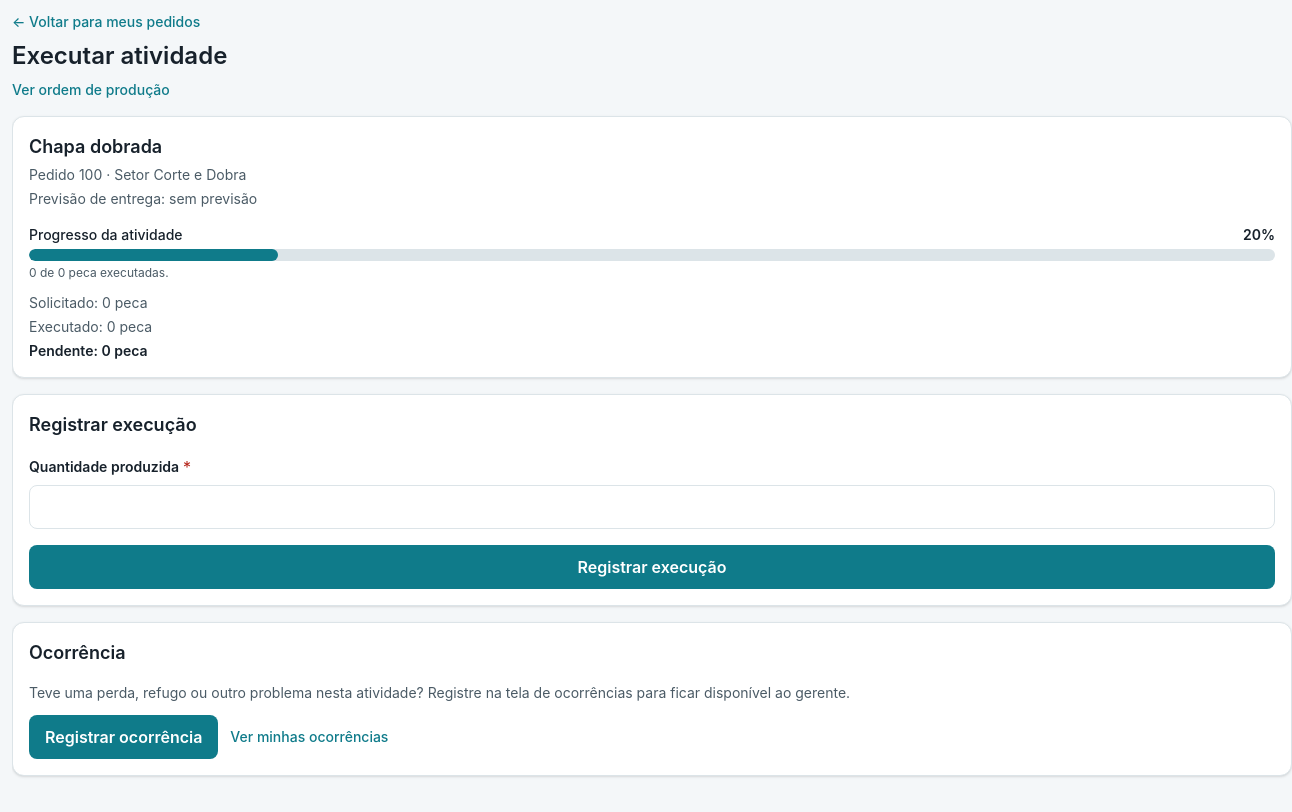
ExecutarAtividadePage › quantidade inválida mostra mensagem e não registra (FE-10)
This screenshot has width=1292, height=812.
Type "0" into the number field labelled "Quantidade produzida" at (652, 507), box left=29, top=485, right=1275, bottom=529
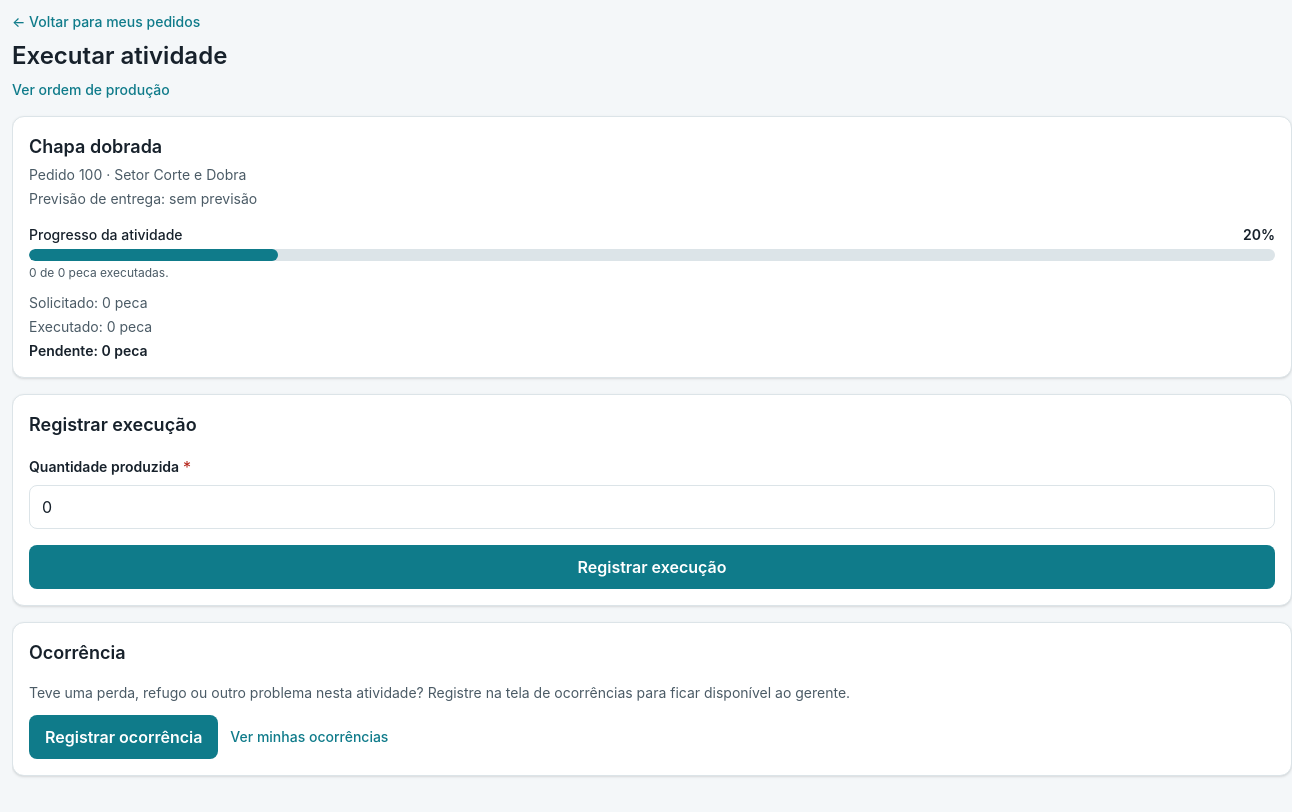
Click the button "Registrar execução" at (652, 567), box left=29, top=545, right=1275, bottom=589
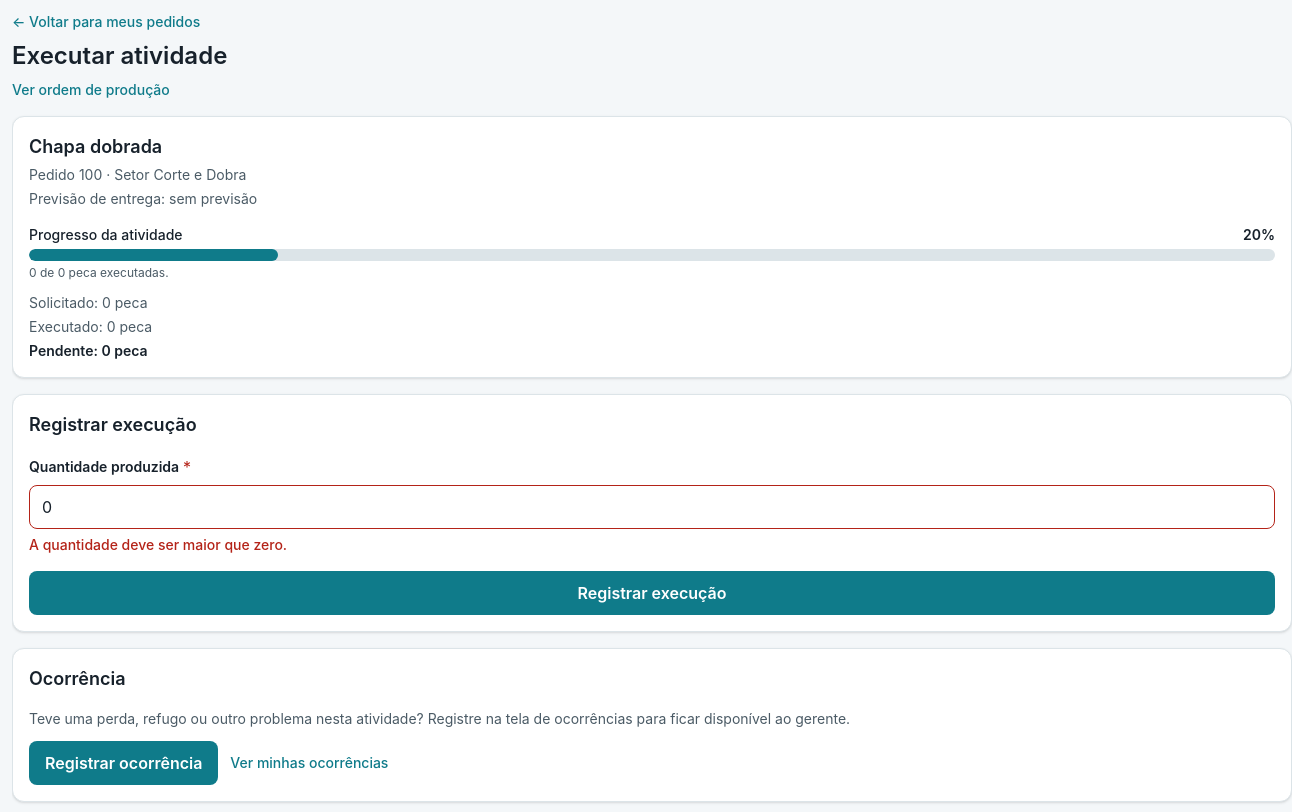
Now the message shows "maior que zero", box left=29, top=536, right=287, bottom=553
